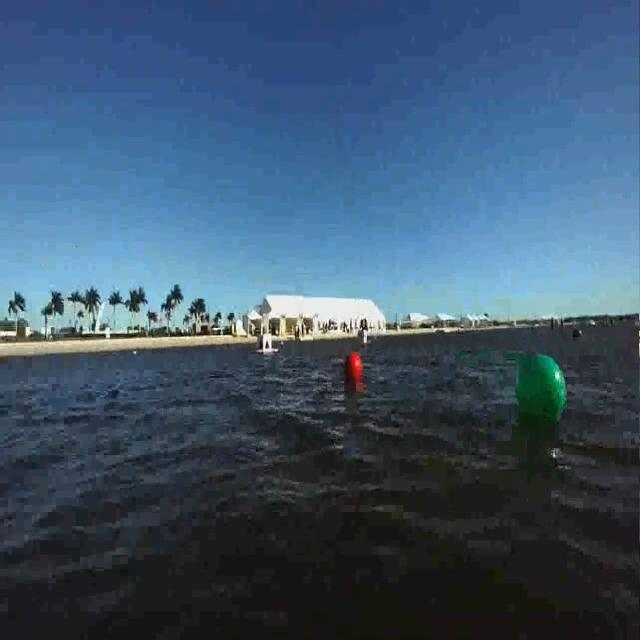green-buoy: (514, 354, 568, 425)
red-buoy: (345, 349, 363, 384)
